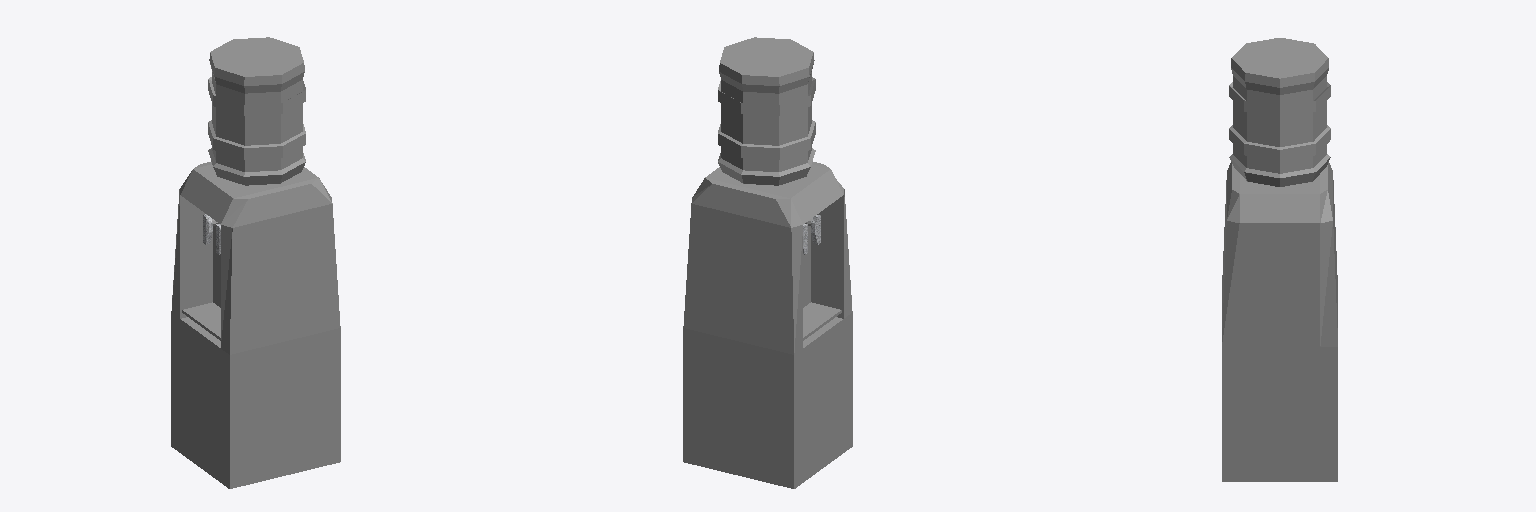
3 views of the same model, side by side, from view 1: azimuth 30°, elevation 25°; view 2: azimuth 150°, elevation 25°; view 3: azimuth 270°, elevation 25° (orthographic).
Visible parts, largest first — view 1: Cube.010_Cube.011, Cube.000, Cube.012_Cube.013; view 2: Cube.010_Cube.011, Cube.000, Cube.012_Cube.013; view 3: Cube.010_Cube.011, Cube.000.
Part boxes in pixels (bbox=[...]): Cube.010_Cube.011: bbox=[171, 162, 340, 488]; Cube.000: bbox=[208, 37, 305, 185]; Cube.012_Cube.013: bbox=[182, 302, 220, 340]; Cube.010_Cube.011: bbox=[683, 161, 852, 488]; Cube.000: bbox=[718, 37, 815, 185]; Cube.012_Cube.013: bbox=[803, 302, 841, 340]; Cube.010_Cube.011: bbox=[1222, 162, 1337, 481]; Cube.000: bbox=[1229, 38, 1330, 186].
Size of the model in its own units: 1.53 by 5.23 by 1.39.
Materials: 4 (1 with a texture image).